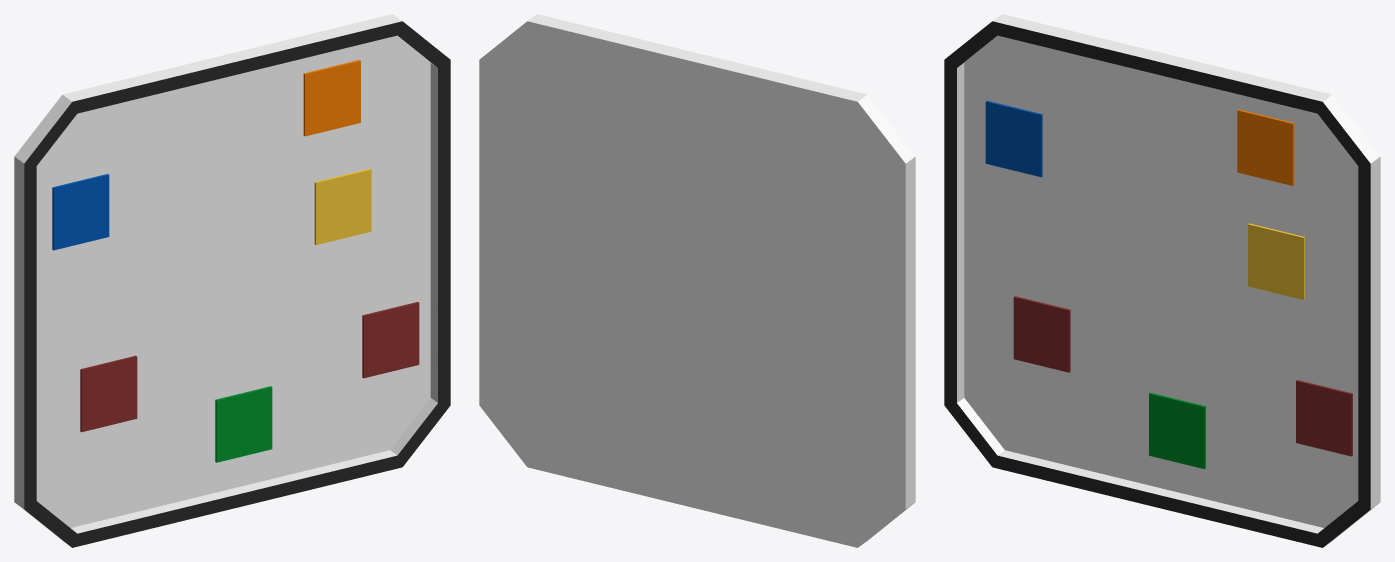
The model's file is Paper Board.fbx.
3 renders of one model, left to right at view 1: azimuth 30°, elevation 25°; view 2: azimuth 150°, elevation 25°; view 3: azimuth 330°, elevation 25°, orthographic.
Parts seen in each view (by area): view 1: Paper Board; view 2: Paper Board; view 3: Paper Board.
Boxes of the visible parts, x1,y1,x2,y2 form: Paper Board: (14, 14, 450, 547); Paper Board: (479, 14, 915, 547); Paper Board: (944, 14, 1380, 547).
Bounding box in the file's own units: 0.84 × 0.84 × 0.0337.
